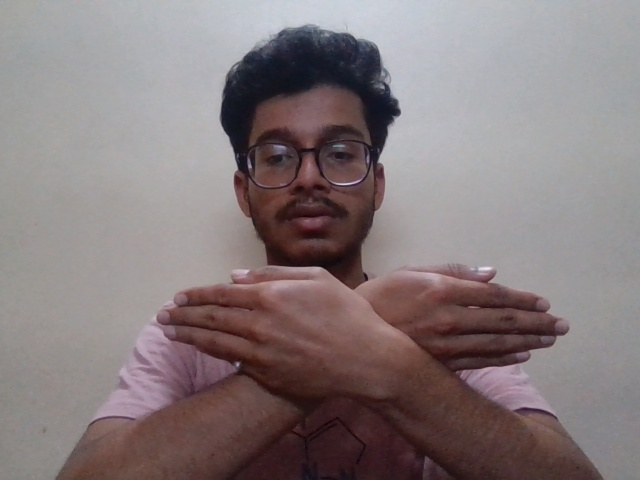feel: (148, 225, 566, 441)
